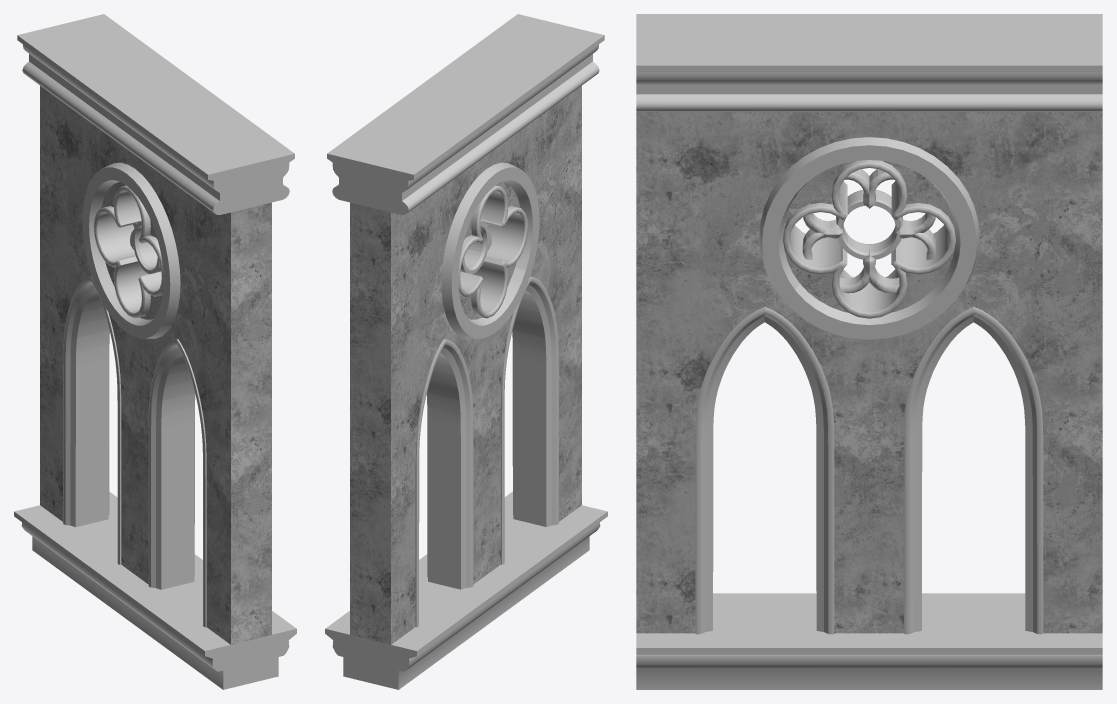
File: SM_HallwayWall_04a.fbx
3 views of the same model, side by side, from view 1: azimuth 30°, elevation 25°; view 2: azimuth 150°, elevation 25°; view 3: azimuth 270°, elevation 25° (orthographic). The views are drawn at different scales.
Visible parts, largest first — view 1: SM_HallwayWall_04a_LOD0; view 2: SM_HallwayWall_04a_LOD0; view 3: SM_HallwayWall_04a_LOD0.
Boxes of the visible parts, x1=… form: SM_HallwayWall_04a_LOD0: x1=14, y1=14, x2=296, y2=689; SM_HallwayWall_04a_LOD0: x1=325, y1=14, x2=607, y2=689; SM_HallwayWall_04a_LOD0: x1=636, y1=14, x2=1102, y2=689.
Bounding box in the file's own units: 222 × 800 × 1200.
